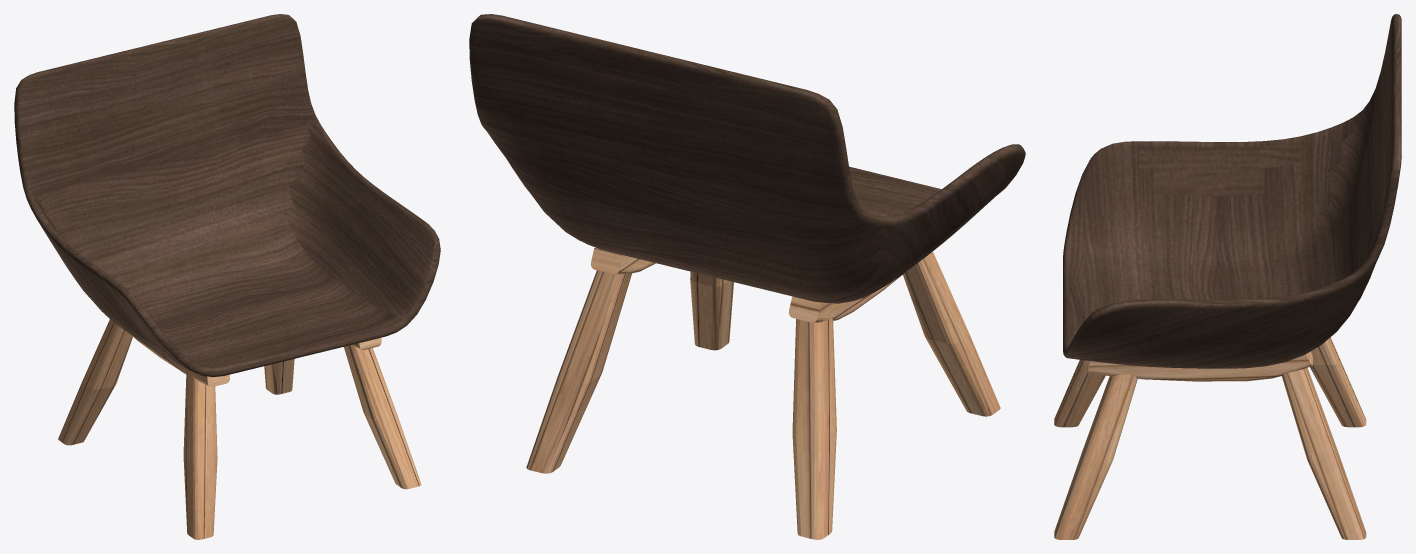
Rendered from flee chair2.glb.
3 renders of one model, left to right at view 1: azimuth 30°, elevation 25°; view 2: azimuth 150°, elevation 25°; view 3: azimuth 270°, elevation 25°, orthographic. The views are drawn at different scales.
Visible parts, largest first — view 1: Plane, Cube; view 2: Plane, Cube; view 3: Plane, Cube.
Boxes of the visible parts, x1=… form: Plane: x1=14, y1=14, x2=440, y2=377; Cube: x1=58, y1=319, x2=421, y2=539; Plane: x1=469, y1=14, x2=1025, y2=303; Cube: x1=526, y1=248, x2=1000, y2=539; Plane: x1=1063, y1=14, x2=1401, y2=368; Cube: x1=1054, y1=337, x2=1366, y2=539.
Bounding box in the file's own units: 2.11 × 2.37 × 1.88.
Materials: 2 (2 with a texture image).
